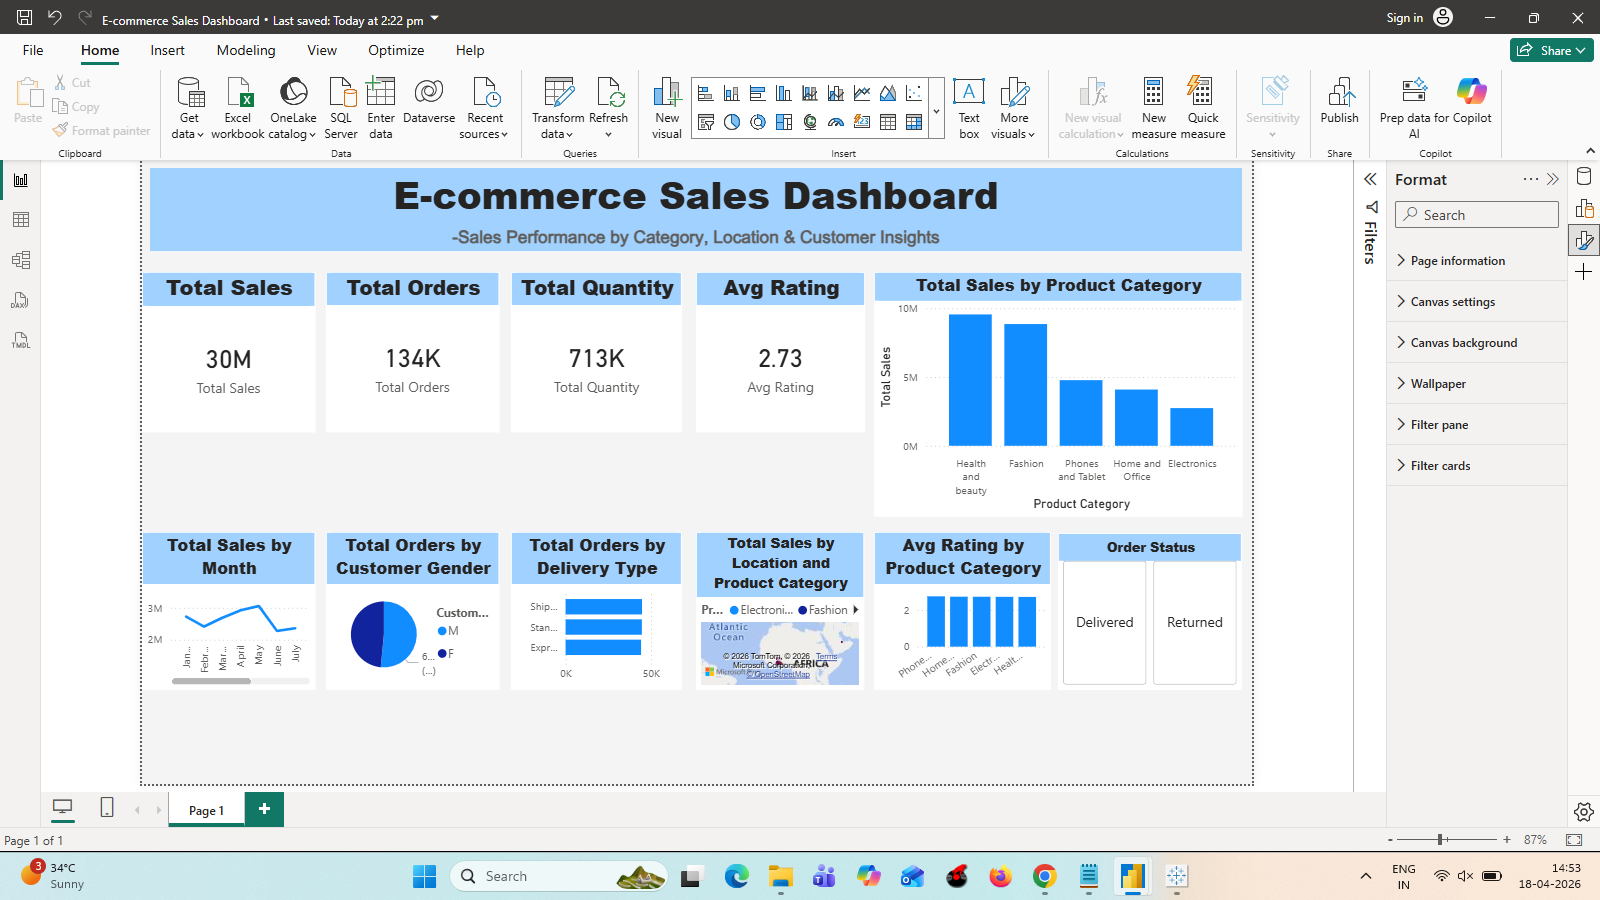

What the dashboard file says about the page in this screenshot:
{"tool":"powerbi","page":{"name":"Page 1","canvas":[1280,720],"ordinal":0},"visuals":[{"type":"card","title":"Total Sales","fields":{"Values":["Table1.Total Sales"]},"box":[0,129.2,199.6,184.6],"z":0},{"type":"card","title":"Total Orders","fields":{"Values":["Table1.Total Orders"]},"box":[212.3,129.2,199.6,184.6],"z":1000},{"type":"card","title":"Total Quantity","fields":{"Values":["Table1.Total Quantity"]},"box":[425.8,129.2,197.3,184.6],"z":2000},{"type":"card","title":"Avg Rating","fields":{"Values":["Table1.Avg Rating"]},"box":[639.2,129.2,195,184.6],"z":3000},{"type":"clusteredColumnChart","fields":{"Category":["Table1.Product Category"],"Y":["Table1.Total Sales"]},"box":[844.6,129.2,424.6,281.5],"z":4000},{"type":"lineChart","fields":{"Category":["Table1.OrderDate.Variation.Date Hierarchy.Year","Table1.OrderDate.Variation.Date Hierarchy.Month"],"Y":["Table1.Total Sales"]},"box":[0,429.2,199.6,182.3],"z":5000},{"type":"pieChart","fields":{"Category":["Table1.Customer Gender"],"Y":["Table1.Total Orders"]},"box":[212.3,429.2,199.6,182.3],"z":6000},{"type":"barChart","fields":{"Category":["Table1.Delivery Type"],"Y":["Table1.Total Orders"]},"box":[425.8,429.2,197.3,182.3],"z":7000},{"type":"map","fields":{"Category":["Table1.Location"],"Size":["Table1.Total Sales"],"Series":["Table1.Product Category"]},"box":[639.2,429.2,193.8,182.3],"z":8000},{"type":"clusteredColumnChart","fields":{"Category":["Table1.Product Category"],"Y":["Table1.Avg Rating"]},"box":[844.6,429.2,204.2,182.3],"z":9000},{"type":"textbox","title":"E-commerce Sales Dashboard","box":[9.3,9.3,1260.1,97],"z":10000},{"type":"advancedSlicerVisual","title":"Order Status","fields":{"Values":["Table1.Status"]},"box":[1056.9,430.4,212.3,181.2],"z":11000}]}

Visuals, with their boxes on the page's 1280x720 design canvas (x1, y1, x2, y2). These are canvas units, not pixel positions in the 1600x900 screenshot, which may show the page scaled, cropped or inside an application window:
"Total Sales" card: <region>0, 129, 200, 314</region>
"Total Orders" card: <region>212, 129, 412, 314</region>
"Total Quantity" card: <region>426, 129, 623, 314</region>
"Avg Rating" card: <region>639, 129, 834, 314</region>
clusteredColumnChart - Table1.Product Category x Table1.Total Sales: <region>845, 129, 1269, 411</region>
lineChart - Table1.OrderDate.Variation.Date Hierarchy.Year x Table1.OrderDate.Variation.Date Hierarchy.Month: <region>0, 429, 200, 612</region>
pieChart - Table1.Customer Gender x Table1.Total Orders: <region>212, 429, 412, 612</region>
barChart - Table1.Delivery Type x Table1.Total Orders: <region>426, 429, 623, 612</region>
map - Table1.Location x Table1.Total Sales: <region>639, 429, 833, 612</region>
clusteredColumnChart - Table1.Product Category x Table1.Avg Rating: <region>845, 429, 1049, 612</region>
"E-commerce Sales Dashboard" textbox: <region>9, 9, 1269, 106</region>
"Order Status" advancedSlicerVisual: <region>1057, 430, 1269, 612</region>
